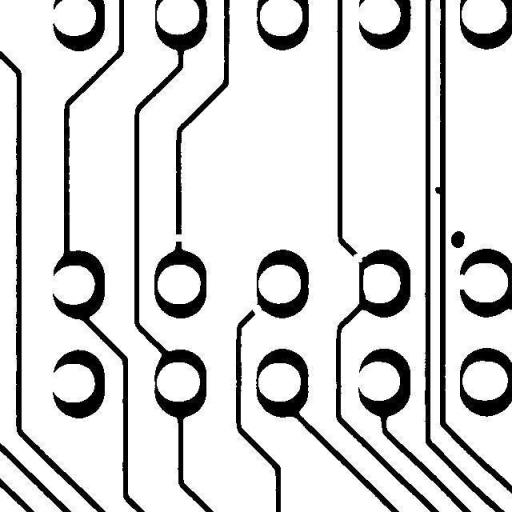copper: (443, 223, 472, 255)
mousebite: (344, 244, 370, 270)
open: (448, 266, 475, 297), (243, 295, 269, 322), (164, 226, 190, 249)
short: (352, 254, 374, 306)
spur: (428, 178, 450, 202)
